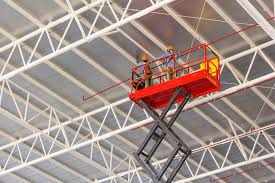Scissor Lift: (128, 43, 221, 183)
